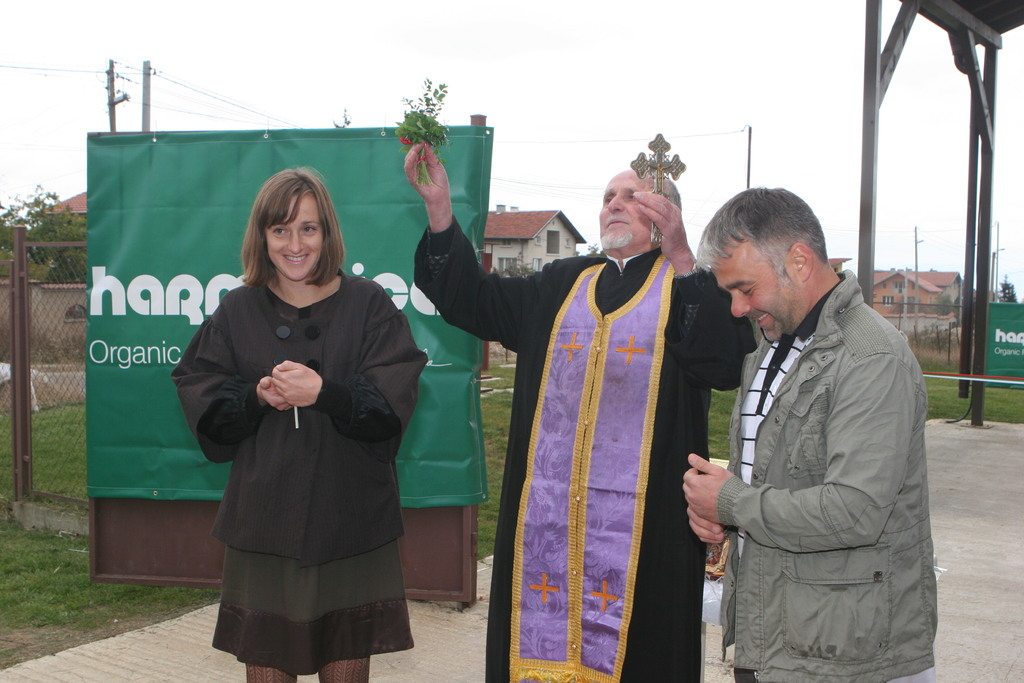Human-face: (708, 242, 803, 341), (266, 195, 321, 283), (598, 169, 652, 251)
